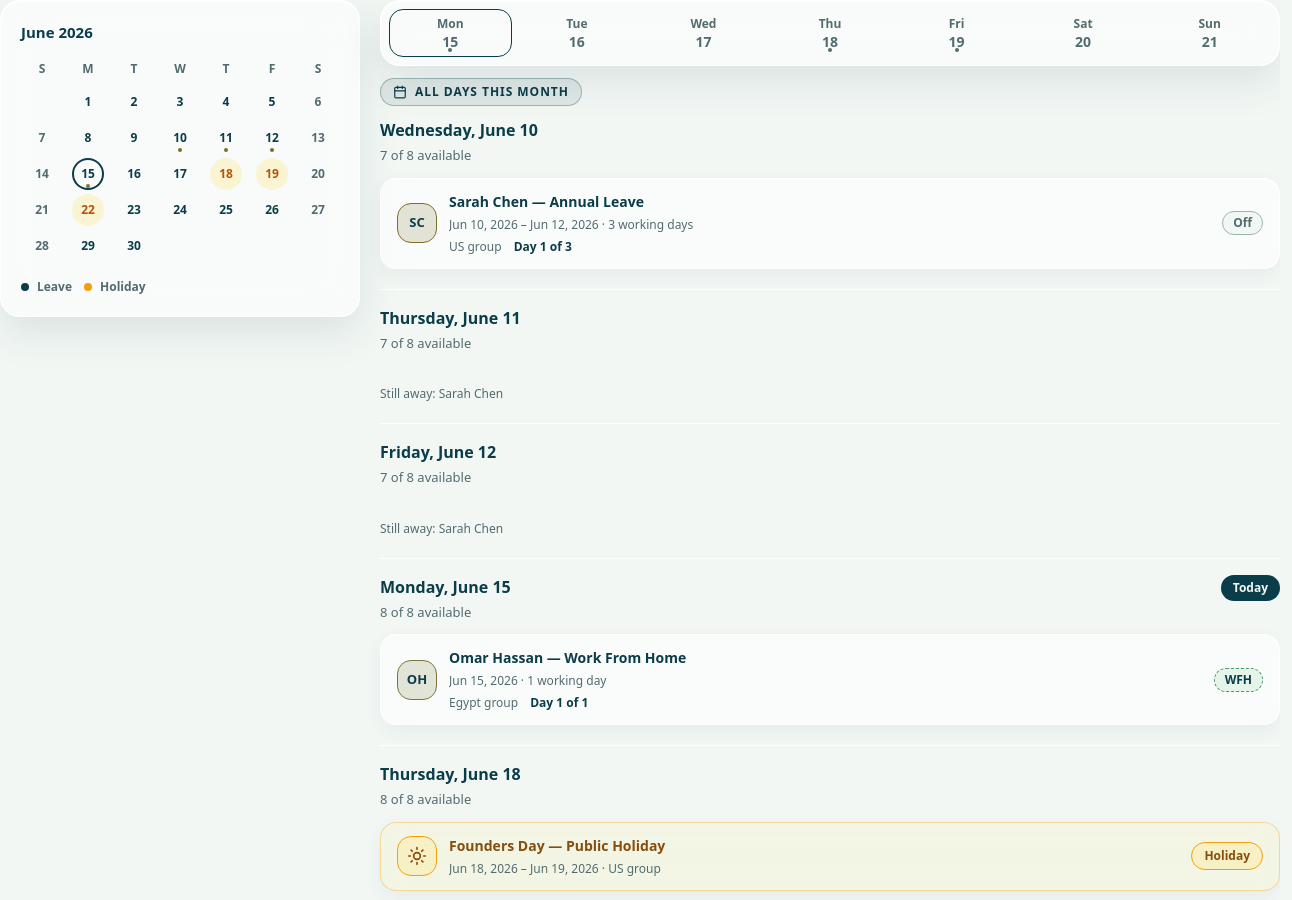
Scenario: CalendarAgenda › [P0] includes a multi-day holiday on its final selected date
Click the button named "June 19, no absences, Founders Day": (272, 174) top-left (256, 158), bottom-right (288, 190)
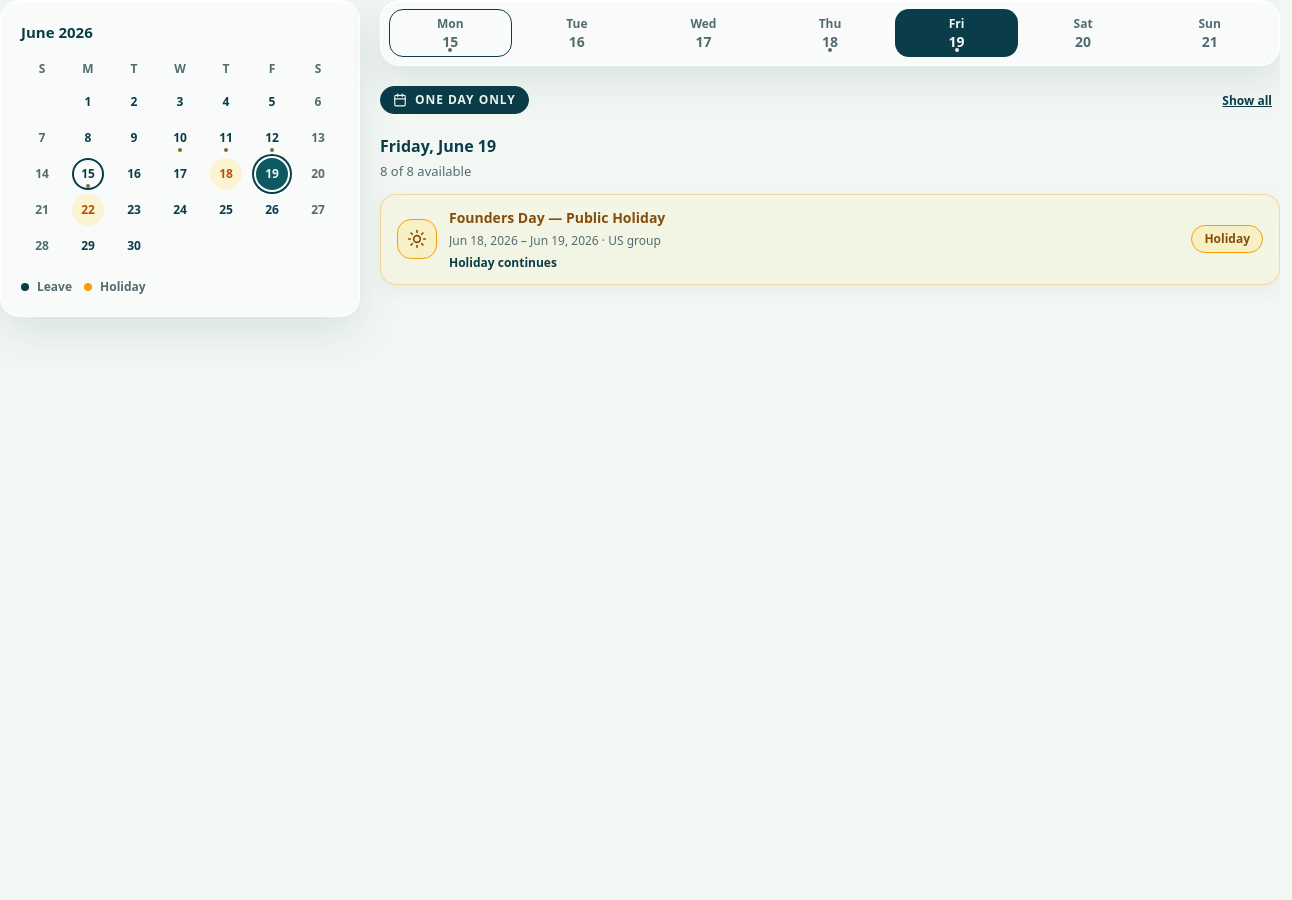
Expected: the text "Founders Day — Public Holiday" is shown, top-left (449, 208), bottom-right (665, 226)
Result: the heading "Friday, June 19" is shown at top-left (380, 134), bottom-right (496, 158)
Result: the link "Sarah Chen — Annual Leave" is gone
